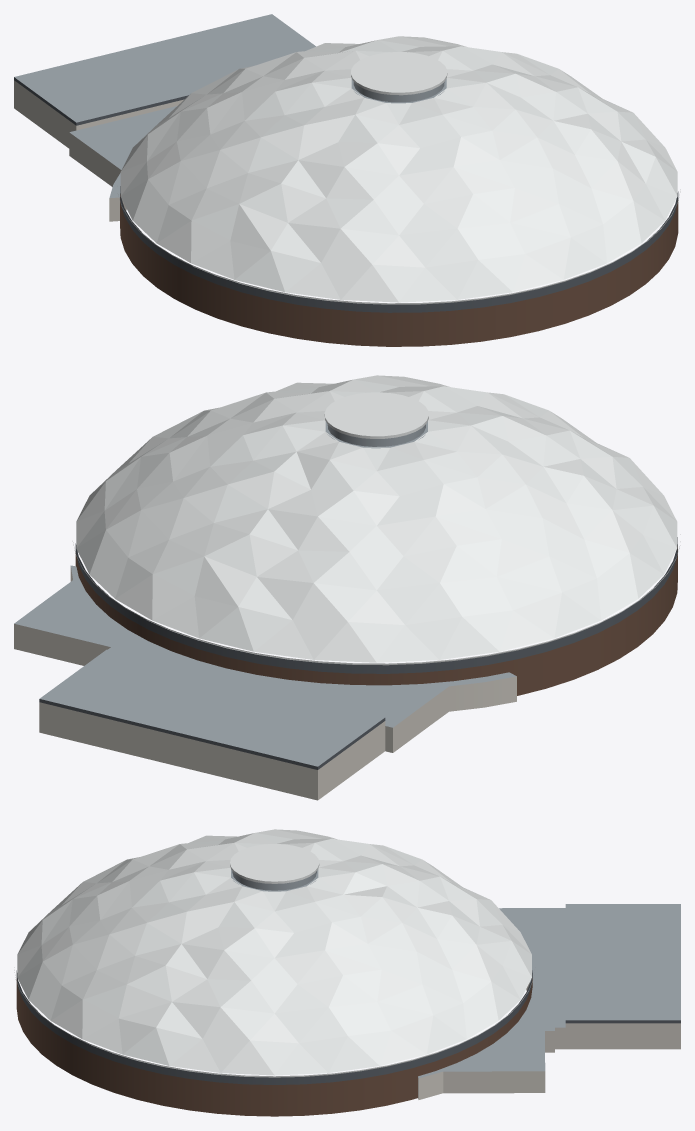
File: sea-tacoma-dome.glb
3 renders of one model, top to bottom at view 1: azimuth 30°, elevation 25°; view 2: azimuth 150°, elevation 25°; view 3: azimuth 270°, elevation 25°, orthographic. The views are drawn at different scales.
Parts seen in each view (by area): view 1: Tacoma Dome; view 2: Tacoma Dome; view 3: Tacoma Dome.
Part boxes in pixels (bbox=[...]): Tacoma Dome: bbox=[14, 14, 680, 346]; Tacoma Dome: bbox=[14, 375, 680, 800]; Tacoma Dome: bbox=[14, 829, 680, 1116].
Bounding box in the file's own units: 163 × 50 × 209.
